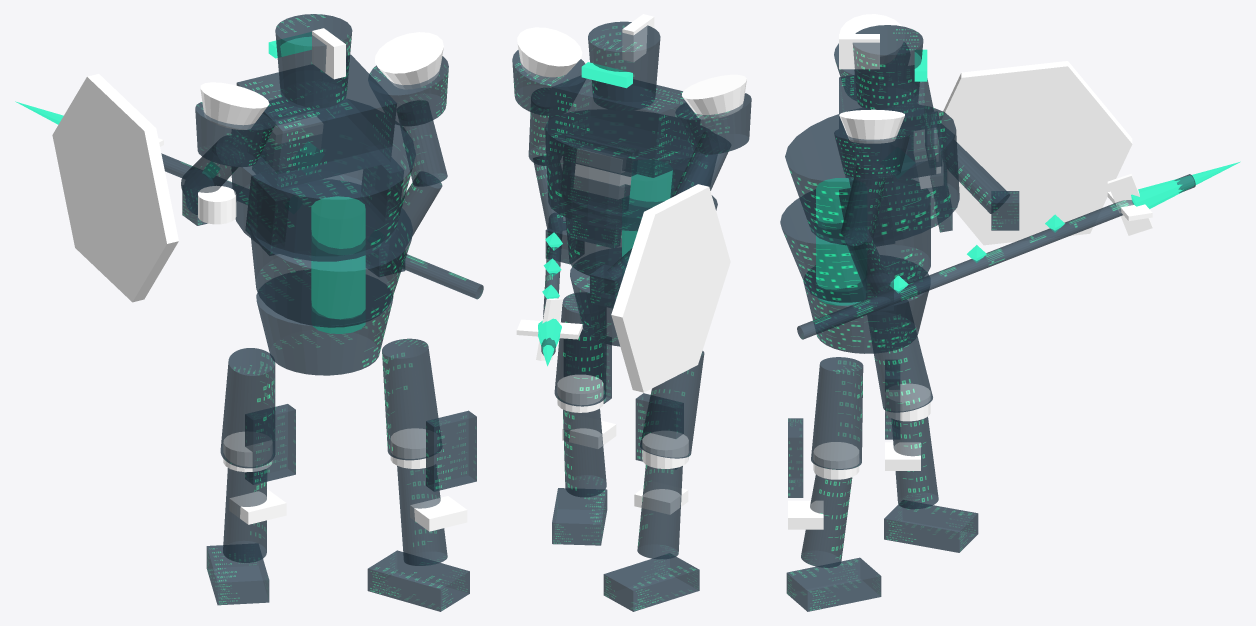
File: piquier.glb
3 renders of one model, left to right at view 1: azimuth 30°, elevation 25°; view 2: azimuth 150°, elevation 25°; view 3: azimuth 270°, elevation 25°, orthographic. The views are drawn at different scales.
Parts seen in each view (by area): view 1: guerrier; view 2: guerrier; view 3: guerrier.
Boxes of the visible parts, x1,y1,x2,y2 form: guerrier: (15, 14, 483, 611); guerrier: (512, 14, 751, 611); guerrier: (780, 14, 1240, 611).
Bounding box in the file's own units: 1.07 × 2.26 × 1.8.
